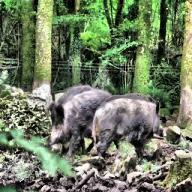boar: (90, 96, 164, 162), (48, 84, 112, 158)
